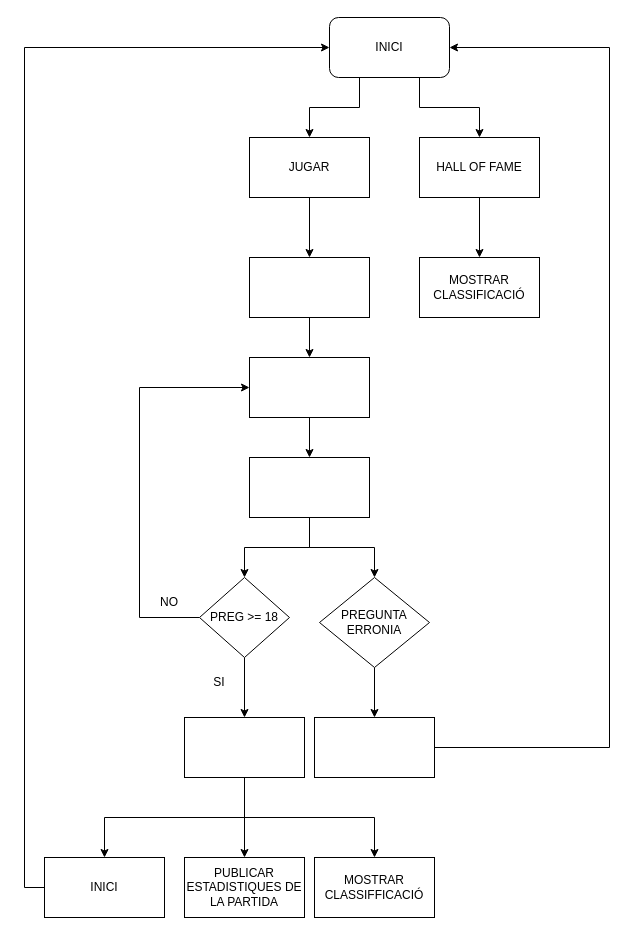
Some shapes in this 635 by 935 pixel diagram are drawn without their labels. Each missing label, with the centre of its shape:
"GAME OVER" goes at point (374, 747).
"MOSTRAR PREGUNTA" goes at point (309, 387).
"PANTALLA DE JOC" goes at point (309, 287).
"PANTALLA GUANYADOR" goes at point (244, 747).
"SELECCIONAR RESPOSTA" goes at point (309, 487).
